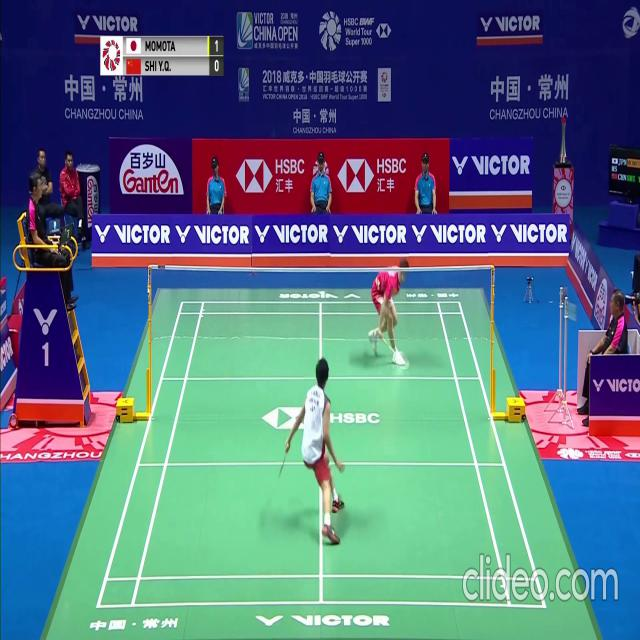Shuttlecock: (318, 288, 322, 295)
